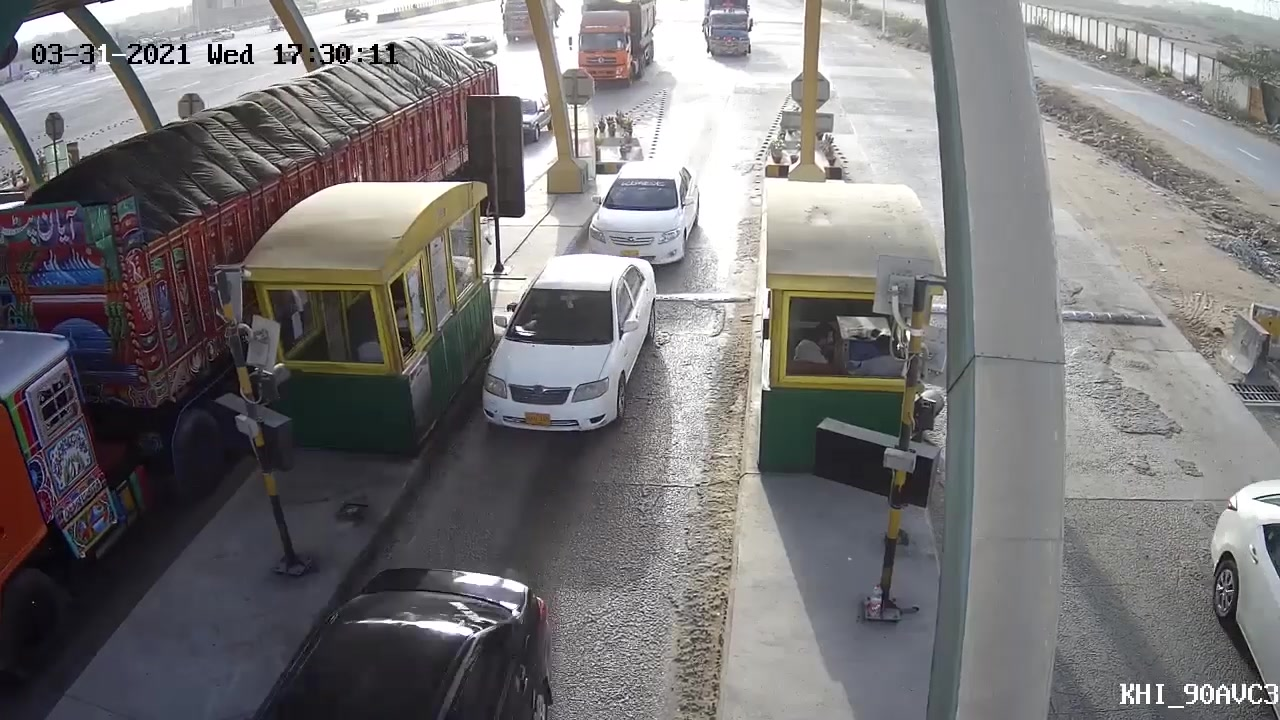F1: (473, 251, 648, 446), (587, 159, 702, 269)
